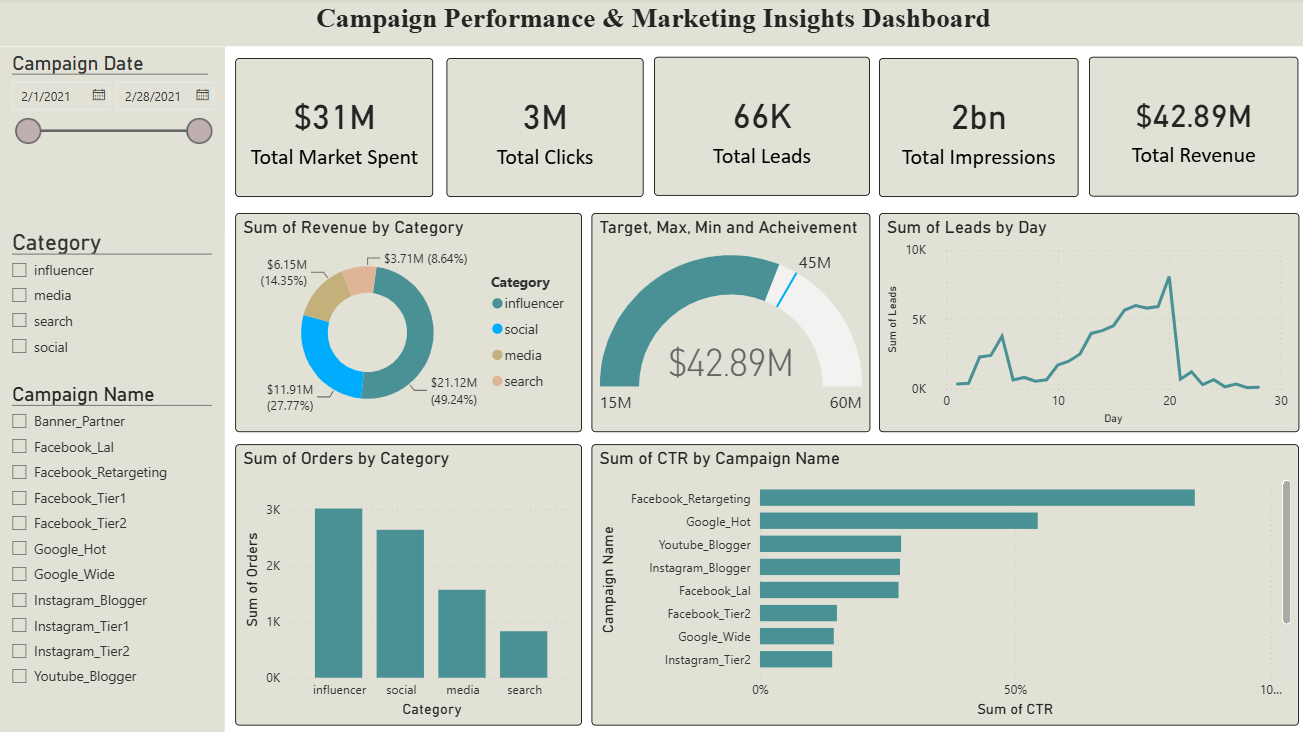

The dashboard page shown, as its layout file describes it:
{"tool":"powerbi","page":{"name":"Page 1","canvas":[1280,720],"ordinal":0},"visuals":[{"type":"slicer","fields":{"Values":["Marketing_Campaign_Data1(in).Category"]},"box":[0,221.9,220.6,157.6],"z":0},{"type":"slicer","fields":{"Values":["Marketing_Campaign_Data1(in).Campaign_Name"]},"box":[0,372.2,220.6,347.9],"z":1000},{"type":"card","fields":{"Values":["Sum(Marketing_Campaign_Data1(in).Market_Spent)"]},"box":[231.6,58.2,194,135.8],"z":2000},{"type":"card","fields":{"Values":["Sum(Marketing_Campaign_Data1(in).Leads)"]},"box":[641,57.4,211.5,136.1],"z":3000},{"type":"card","fields":{"Values":["Sum(Marketing_Campaign_Data1(in).Clicks)"]},"box":[437.7,58.2,192.8,135.8],"z":4000},{"type":"card","fields":{"Values":["Sum(Marketing_Campaign_Data1(in).Impressions)"]},"box":[860.8,58.2,195.2,135.8],"z":5000},{"type":"card","fields":{"Values":["Sum(Marketing_Campaign_Data1(in).Revenue)"]},"box":[1066.9,57,204.9,137],"z":6000},{"type":"slicer","fields":{"Values":["Marketing_Campaign_Data1(in).Campaign_Date"]},"box":[0,47.3,220.9,182.6],"z":7000},{"type":"textbox","box":[0,0,1280.4,47.3],"z":8000},{"type":"barChart","fields":{"Category":["Marketing_Campaign_Data1(in).Campaign_Name"],"Y":["Sum(Marketing_Campaign_Data1(in).CTR)"]},"box":[579.5,436.4,692.3,275.2],"z":9000},{"type":"lineChart","fields":{"Category":["Marketing_Campaign_Data1(in).Campaign_Date.Variation.Date Hierarchy.Day"],"Y":["Sum(Marketing_Campaign_Data1(in).Leads)"]},"box":[860.8,209.7,411,214.6],"z":10000},{"type":"donutChart","fields":{"Category":["Marketing_Campaign_Data1(in).Category"],"Y":["Sum(Marketing_Campaign_Data1(in).Revenue)"]},"box":[231.6,209.7,339.5,214.6],"z":11000},{"type":"columnChart","fields":{"Y":["Sum(Marketing_Campaign_Data1(in).Orders)"],"Category":["Marketing_Campaign_Data1(in).Category"]},"box":[231.6,436.4,339.5,275.2],"z":12000},{"type":"gauge","fields":{"Y":["Sum(Marketing_Campaign_Data1(in).Revenue)"],"TargetValue":["Marketing_Campaign_Data1(in).Target Revenue"],"MinValue":["Marketing_Campaign_Data1(in).Minimum value"],"MaxValue":["Marketing_Campaign_Data1(in).Maximum"]},"box":[579.5,209.7,272.8,214.6],"z":13000}]}

Visuals, with their boxes in screenshot pixels (x1, y1, x2, y2), scaled from the page's 1280x720 canvas onto the 1303x732 screenshot:
slicer - Marketing_Campaign_Data1(in).Category: left=0, top=226, right=225, bottom=386
slicer - Marketing_Campaign_Data1(in).Campaign_Name: left=0, top=378, right=225, bottom=731
card - Sum(Marketing_Campaign_Data1(in).Market_Spent): left=236, top=59, right=433, bottom=197
card - Sum(Marketing_Campaign_Data1(in).Leads): left=653, top=58, right=868, bottom=197
card - Sum(Marketing_Campaign_Data1(in).Clicks): left=446, top=59, right=642, bottom=197
card - Sum(Marketing_Campaign_Data1(in).Impressions): left=876, top=59, right=1075, bottom=197
card - Sum(Marketing_Campaign_Data1(in).Revenue): left=1086, top=58, right=1295, bottom=197
slicer - Marketing_Campaign_Data1(in).Campaign_Date: left=0, top=48, right=225, bottom=234
textbox: left=0, top=0, right=1302, bottom=48
barChart - Marketing_Campaign_Data1(in).Campaign_Name x Sum(Marketing_Campaign_Data1(in).CTR): left=590, top=444, right=1295, bottom=723
lineChart - Marketing_Campaign_Data1(in).Campaign_Date.Variation.Date Hierarchy.Day x Sum(Marketing_Campaign_Data1(in).Leads): left=876, top=213, right=1295, bottom=431
donutChart - Marketing_Campaign_Data1(in).Category x Sum(Marketing_Campaign_Data1(in).Revenue): left=236, top=213, right=581, bottom=431
columnChart - Sum(Marketing_Campaign_Data1(in).Orders) x Marketing_Campaign_Data1(in).Category: left=236, top=444, right=581, bottom=723
gauge - Sum(Marketing_Campaign_Data1(in).Revenue) x Marketing_Campaign_Data1(in).Target Revenue: left=590, top=213, right=868, bottom=431
